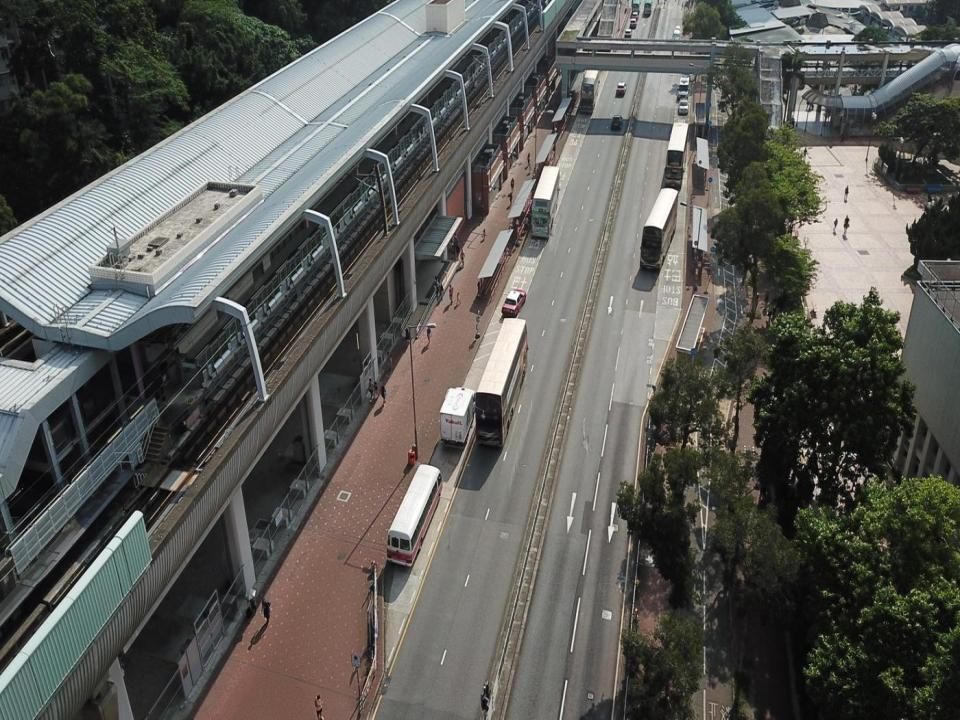bus: (474, 318, 528, 448), (386, 464, 443, 568), (640, 187, 678, 272), (530, 166, 560, 238), (663, 123, 690, 189), (579, 66, 601, 114), (643, 0, 653, 15), (632, 0, 641, 15)
car: (501, 289, 527, 318), (611, 113, 623, 131), (678, 97, 688, 114), (616, 81, 627, 95), (624, 27, 633, 38), (630, 17, 637, 28), (631, 11, 639, 20)
truck: (439, 387, 476, 450), (677, 75, 690, 100), (671, 25, 681, 42)
